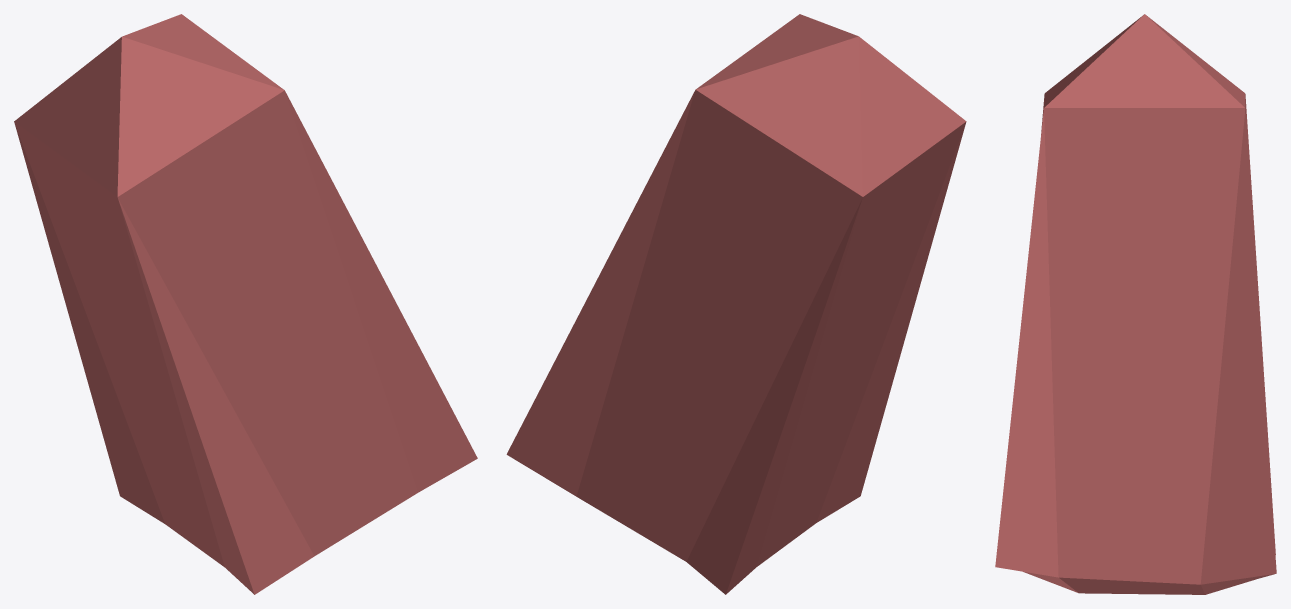
Rendered from rocketNoTexture.dae.
The picture shows the model from 3 angles, left to right: view 1: azimuth 30°, elevation 25°; view 2: azimuth 150°, elevation 25°; view 3: azimuth 270°, elevation 25°; orthographic projection. The views are drawn at different scales.
Parts seen in each view (by area): view 1: rocket.4; view 2: rocket.4; view 3: rocket.4.
Part boxes in pixels (x1,y1,x2,y2): rocket.4: (14,14,477,594); rocket.4: (506,14,966,594); rocket.4: (995,14,1276,594).
Size of the model in its own units: 42.71 by 63.19 by 31.51.
